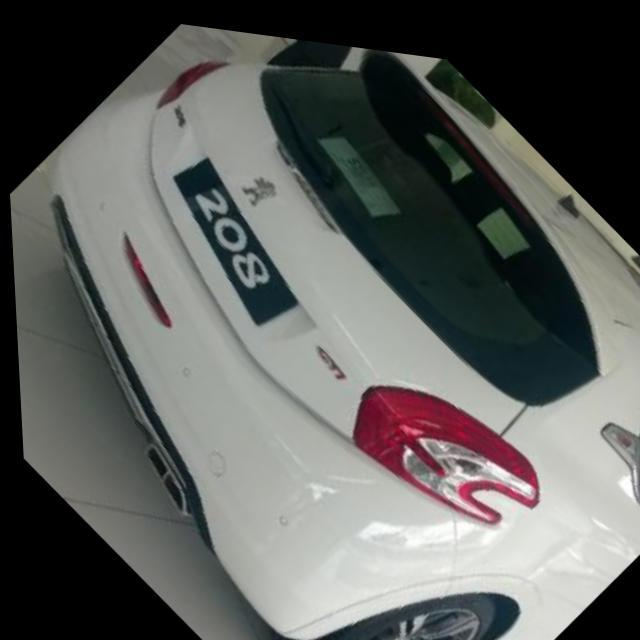license_plate: (136, 138, 326, 336)
